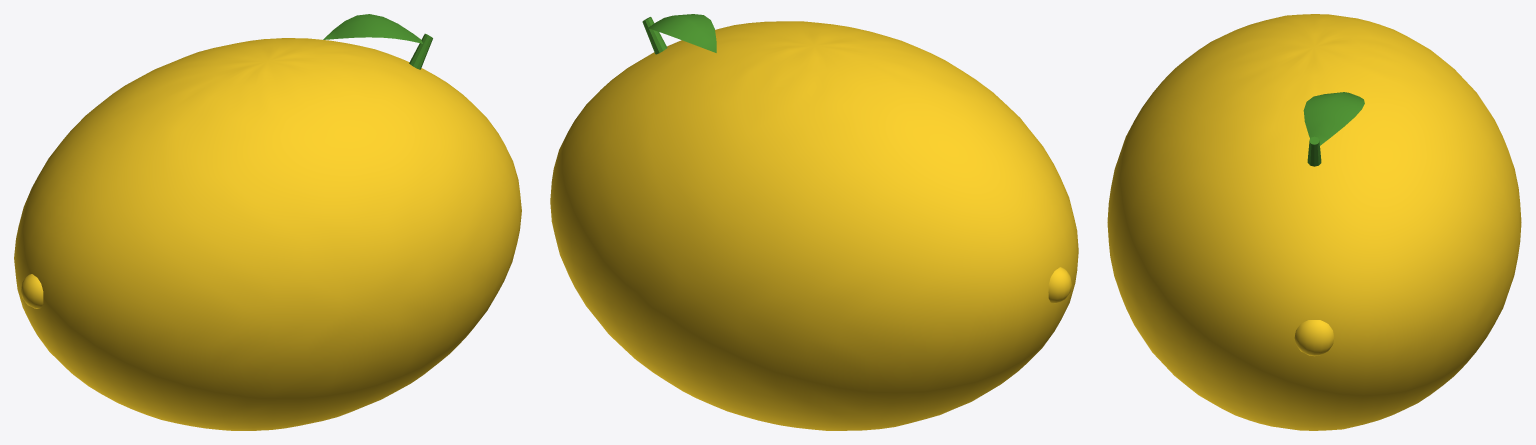
File: lemon.fbx
The picture shows the model from 3 angles, left to right: view 1: azimuth 30°, elevation 25°; view 2: azimuth 150°, elevation 25°; view 3: azimuth 270°, elevation 25°; orthographic projection. The views are drawn at different scales.
Parts seen in each view (by area): view 1: lemon; view 2: lemon; view 3: lemon.
Boxes of the visible parts, box(x1,y1,x2,y2) form: lemon: box(14, 14, 521, 430); lemon: box(550, 14, 1078, 430); lemon: box(1107, 14, 1521, 430).
Bounding box in the file's own units: 58 × 40 × 42.
